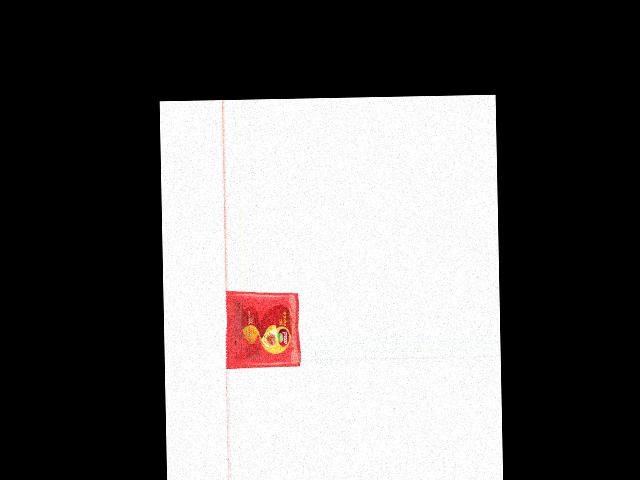cheese: (223, 292, 300, 369)
